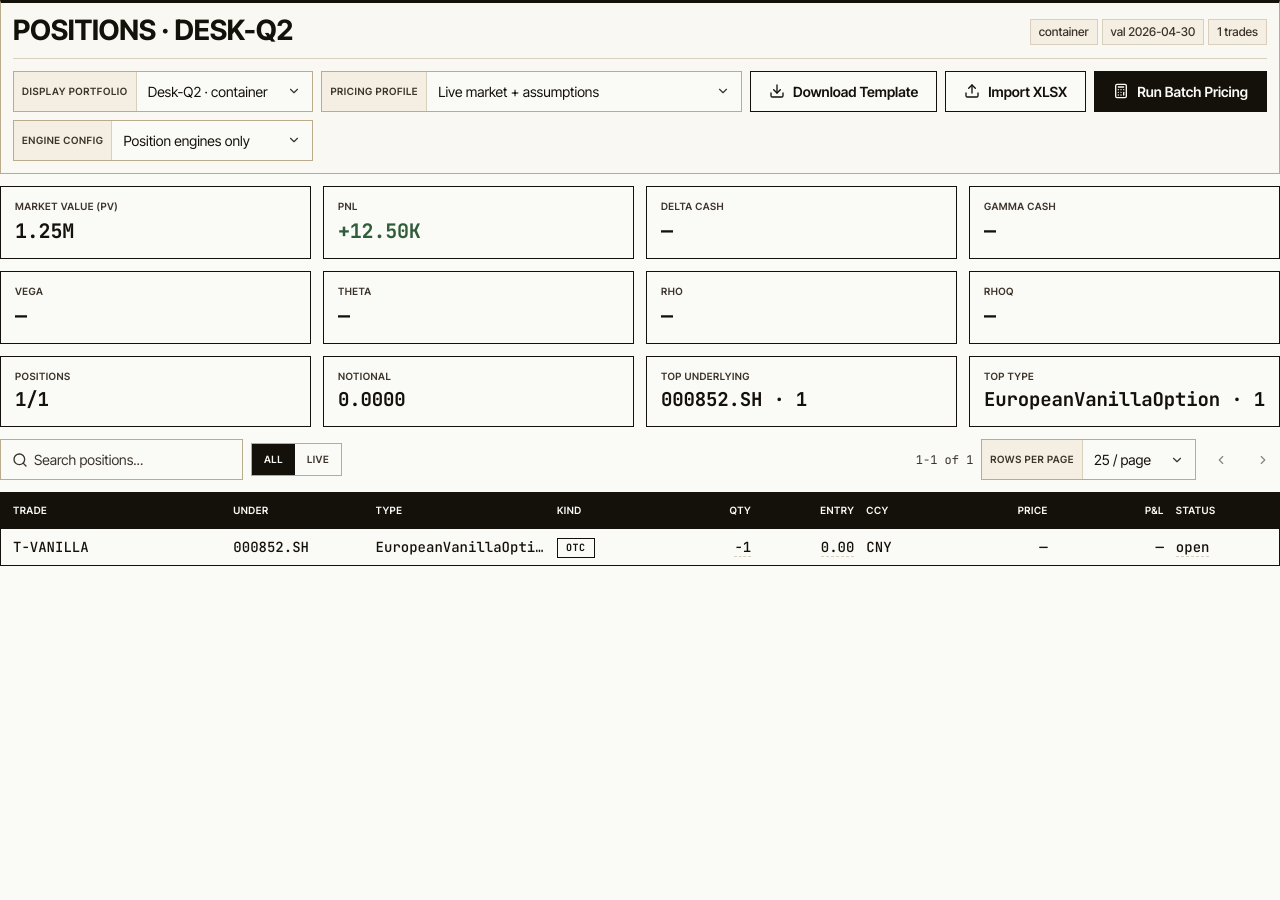
Test case: Positions › prefills the pricing ticket from resolved params, ignoring stale last-run market inputs
Step 1. Click the text "T-VANILLA" → point(51, 547), box [13, 538, 89, 556]
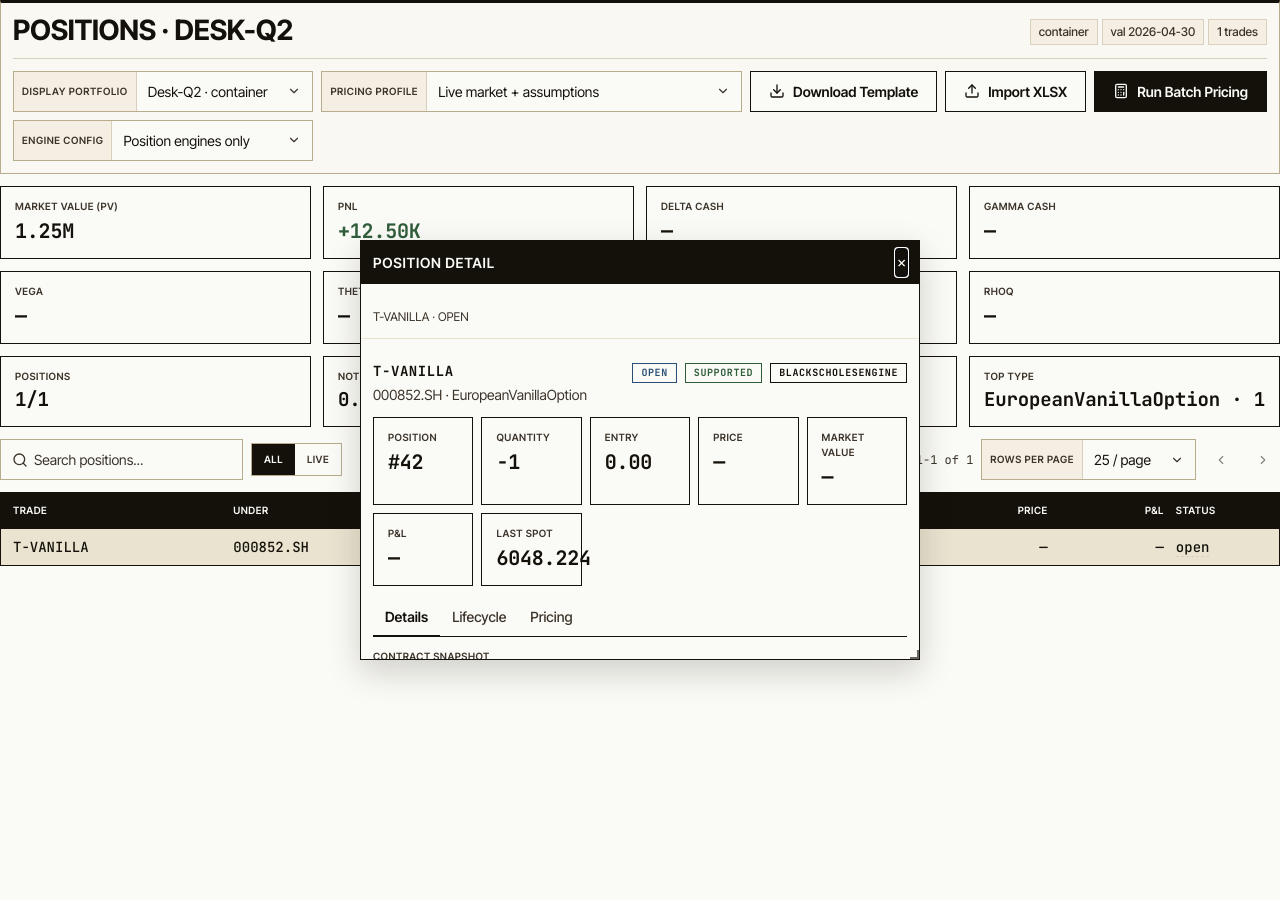
Step 2. Click the tab "Pricing" → point(551, 617), box [518, 598, 584, 637]
(page scrolled)
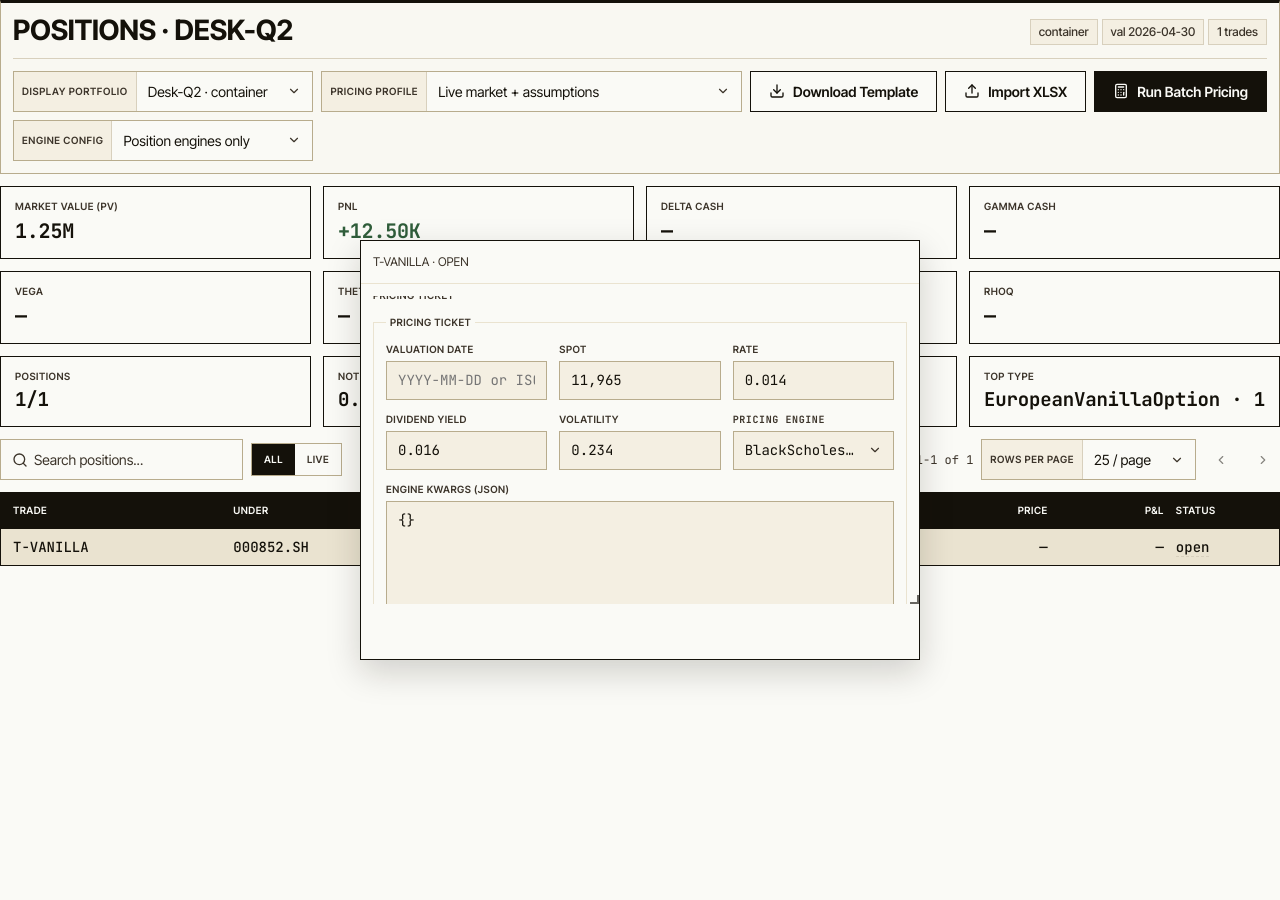
Check: the number field named "Pricing rate" holds "0.014", box [733, 361, 894, 400]
Check: the number field named "Pricing dividend yield" holds "0.016", box [386, 431, 547, 470]
Check: the number field named "Pricing volatility" holds "0.234", box [559, 431, 721, 470]
